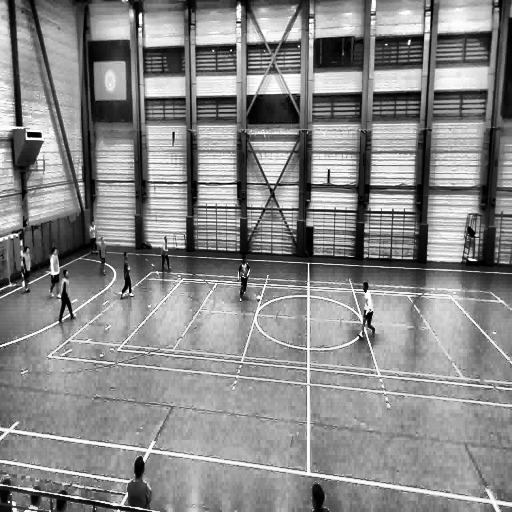ball: (257, 293, 262, 301)
player: (127, 457, 152, 512), (357, 282, 374, 340), (59, 268, 77, 322), (48, 246, 62, 302), (120, 250, 134, 298), (238, 254, 250, 299), (21, 246, 31, 293), (161, 236, 171, 271), (98, 236, 107, 274), (88, 220, 98, 253)
